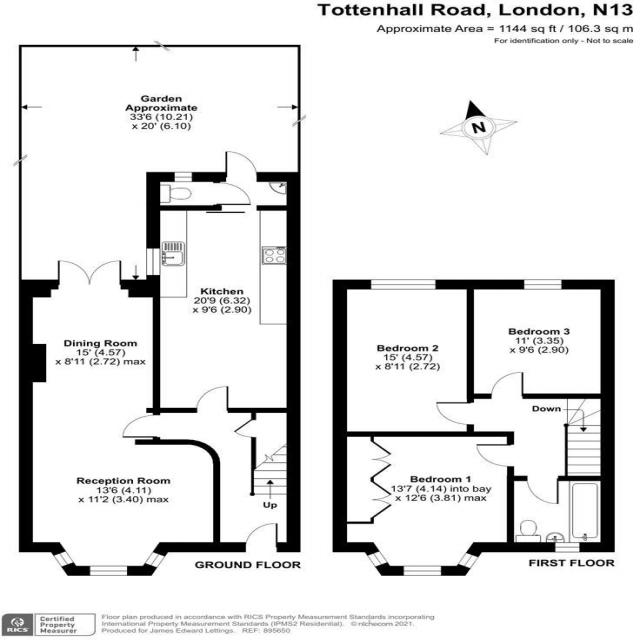DOOR: (223, 150, 259, 182), (244, 522, 279, 553), (434, 401, 475, 426), (475, 443, 514, 468), (526, 476, 559, 505), (121, 414, 160, 438), (490, 372, 524, 399), (195, 386, 229, 413)
DOUBLE DOOR: (54, 257, 123, 290)
ROOM: (18, 259, 221, 577), (145, 205, 301, 413), (332, 431, 515, 577), (332, 279, 475, 437), (466, 279, 615, 399)
WINDOW: (369, 278, 437, 291), (145, 247, 161, 276), (403, 565, 442, 576), (523, 279, 562, 290), (89, 565, 128, 576), (366, 550, 389, 568), (52, 550, 75, 568), (143, 551, 166, 569), (457, 552, 479, 570), (554, 542, 581, 553), (173, 171, 194, 183)
